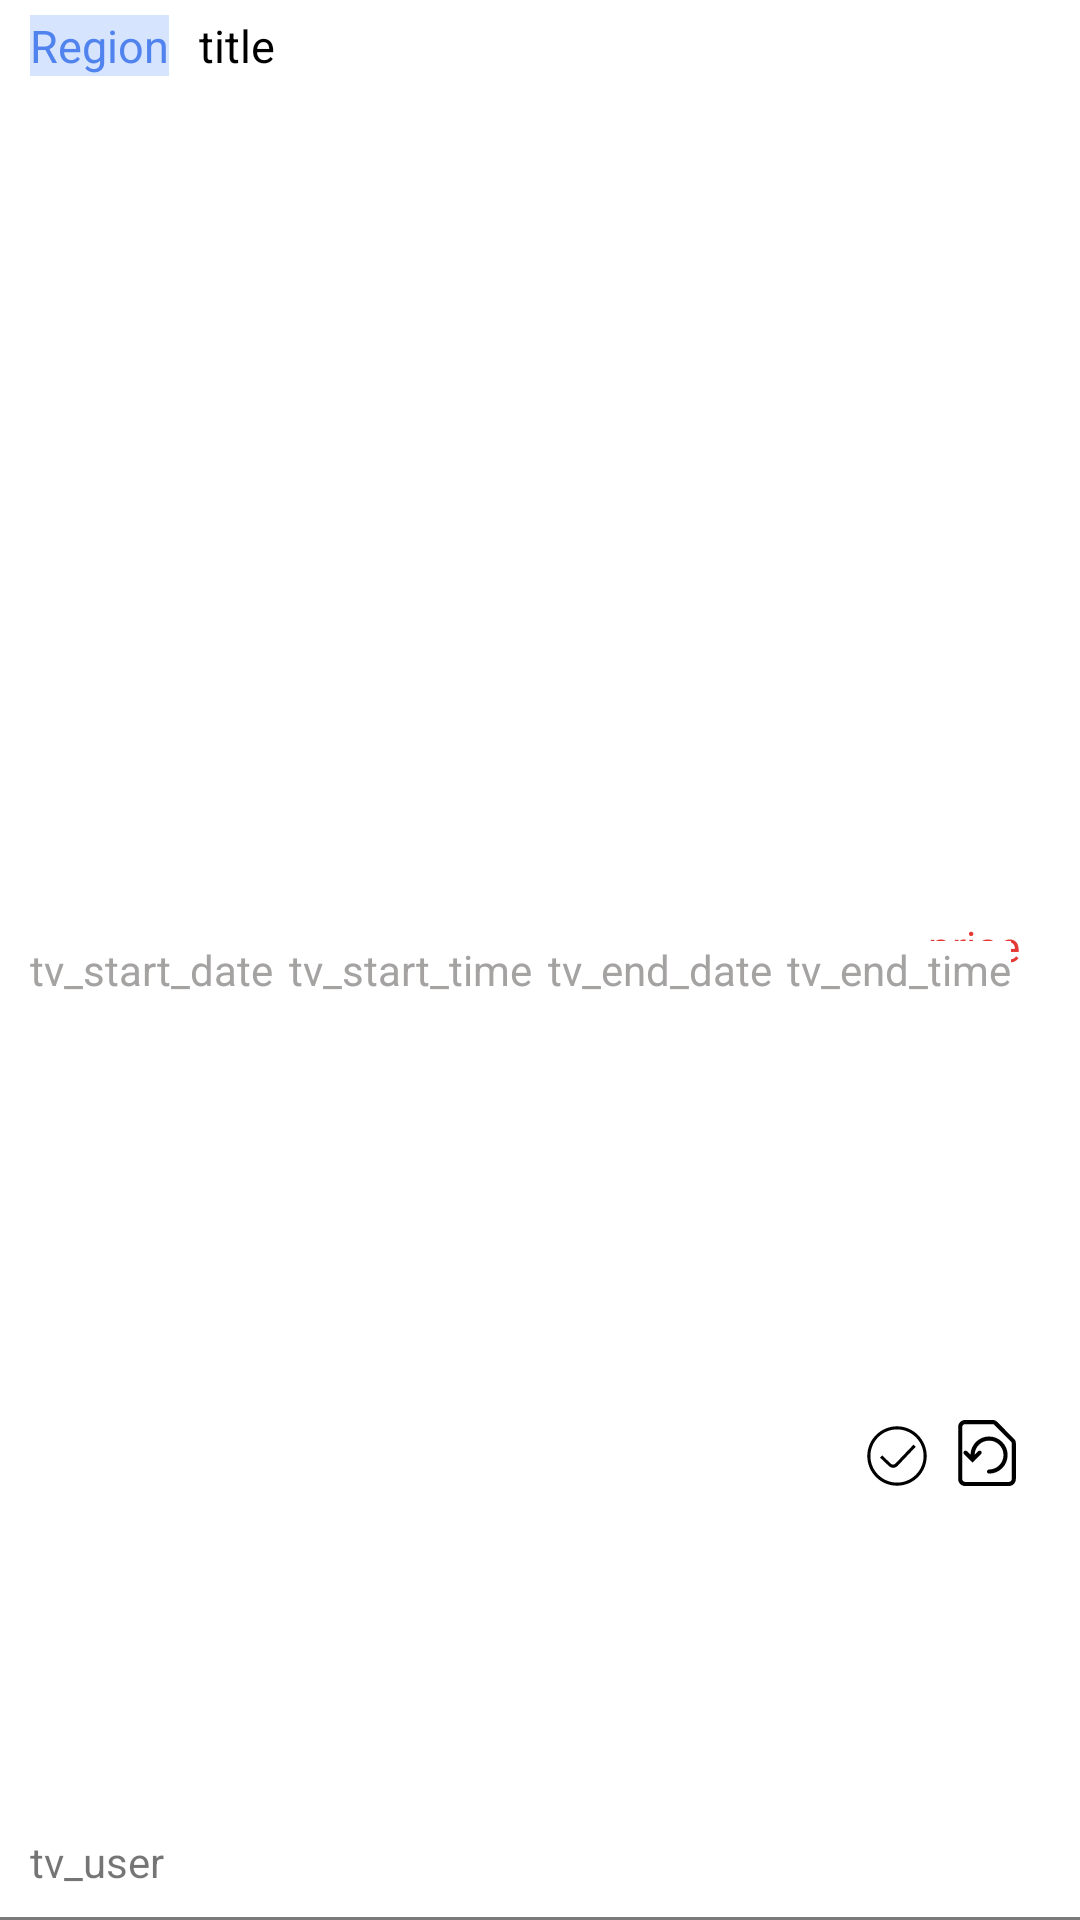

Screen size 1080*1920. Icon name, then its box in pixels as {"left": x1, "top": y1, "right": x2, "bottom": y2}:
chargeback: {"left": 958, "top": 1420, "right": 1016, "bottom": 1486}
finished: {"left": 867, "top": 1426, "right": 927, "bottom": 1486}
